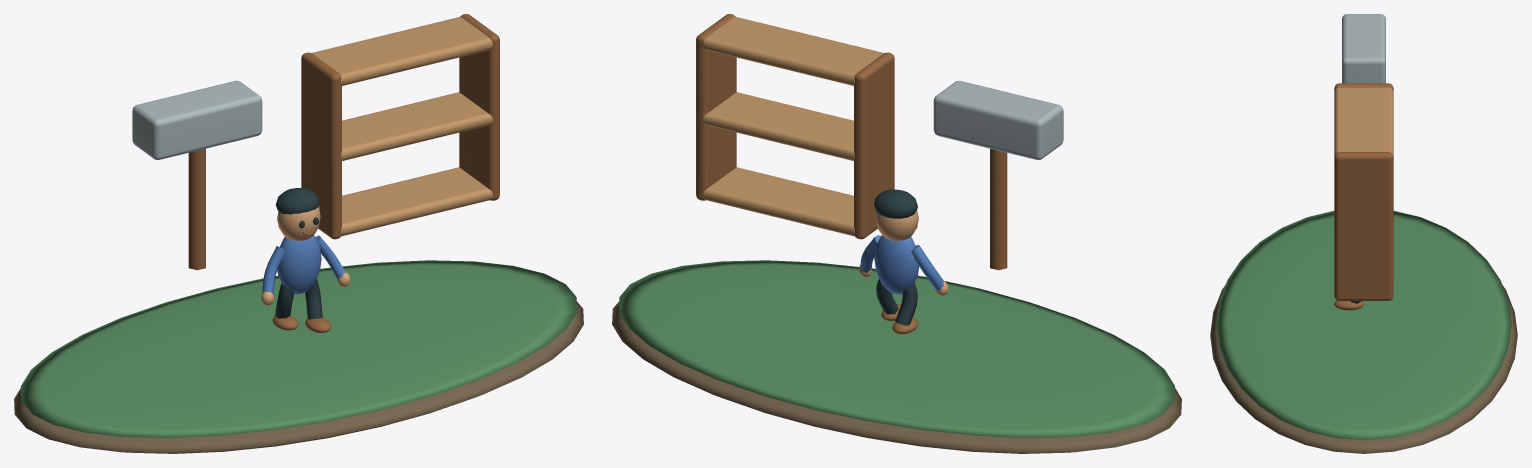
File: complete-second-professional-work.glb
The picture shows the model from 3 angles, left to right: view 1: azimuth 30°, elevation 25°; view 2: azimuth 150°, elevation 25°; view 3: azimuth 270°, elevation 25°; orthographic projection. The views are drawn at different scales.
Visible parts, largest first — view 1: complete-second-professional-work_surface_01, complete-second-professional-work_surface_04, complete-second-professional-work_surface_02, complete-second-professional-work_surface_00, complete-second-professional-work_surface_03, complete-second-professional-work_surface_07, complete-second-professional-work_surface_06, complete-second-professional-work_surface_05; view 2: complete-second-professional-work_surface_01, complete-second-professional-work_surface_04, complete-second-professional-work_surface_02, complete-second-professional-work_surface_00, complete-second-professional-work_surface_03, complete-second-professional-work_surface_07, complete-second-professional-work_surface_06, complete-second-professional-work_surface_05; view 3: complete-second-professional-work_surface_01, complete-second-professional-work_surface_02, complete-second-professional-work_surface_00, complete-second-professional-work_surface_04, complete-second-professional-work_surface_03.
Boxes of the visible parts, box(x1,y1,x2,y2) form: complete-second-professional-work_surface_01: box(21, 260, 576, 437); complete-second-professional-work_surface_04: box(312, 17, 492, 236); complete-second-professional-work_surface_02: box(188, 14, 499, 333); complete-second-professional-work_surface_00: box(14, 302, 583, 453); complete-second-professional-work_surface_03: box(132, 80, 262, 159); complete-second-professional-work_surface_07: box(262, 235, 345, 294); complete-second-professional-work_surface_06: box(275, 188, 322, 319); complete-second-professional-work_surface_05: box(261, 206, 350, 305); complete-second-professional-work_surface_01: box(619, 260, 1174, 437); complete-second-professional-work_surface_04: box(703, 17, 883, 236); complete-second-professional-work_surface_02: box(696, 14, 1007, 334); complete-second-professional-work_surface_00: box(612, 302, 1181, 453); complete-second-professional-work_surface_03: box(933, 80, 1063, 159); complete-second-professional-work_surface_07: box(860, 235, 943, 294); complete-second-professional-work_surface_06: box(874, 189, 917, 325); complete-second-professional-work_surface_05: box(859, 209, 948, 295); complete-second-professional-work_surface_01: box(1216, 211, 1511, 440); complete-second-professional-work_surface_02: box(1334, 83, 1393, 310); complete-second-professional-work_surface_00: box(1210, 285, 1517, 453); complete-second-professional-work_surface_04: box(1334, 87, 1393, 156); complete-second-professional-work_surface_03: box(1342, 14, 1385, 83).
Bounding box in the file's own units: 4.56 × 2.47 × 2.5.
